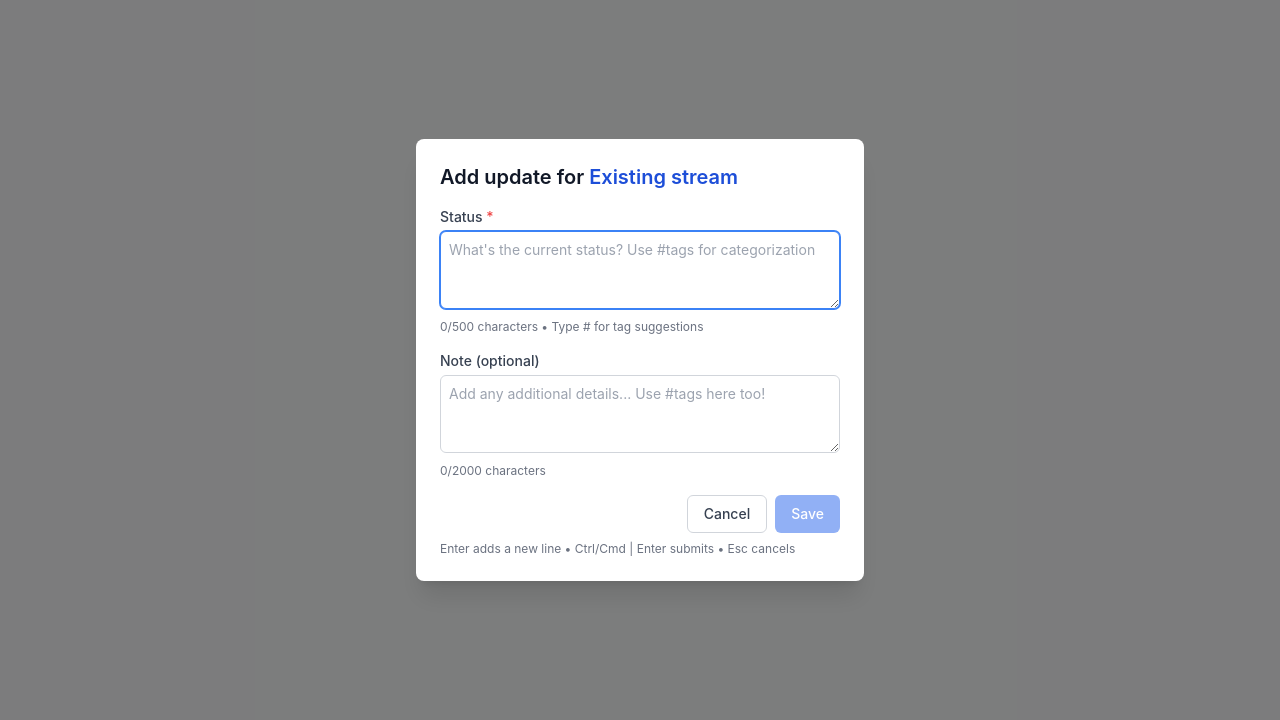
Scenario: dialog keyboard submission hints › uses the same Escape discard confirmation for creating status updates
The image size is (1280, 720).
Type "Draft update" into the text box labelled "Status *".
click(640, 270); type("Draft update")  # box [440,231,840,309]
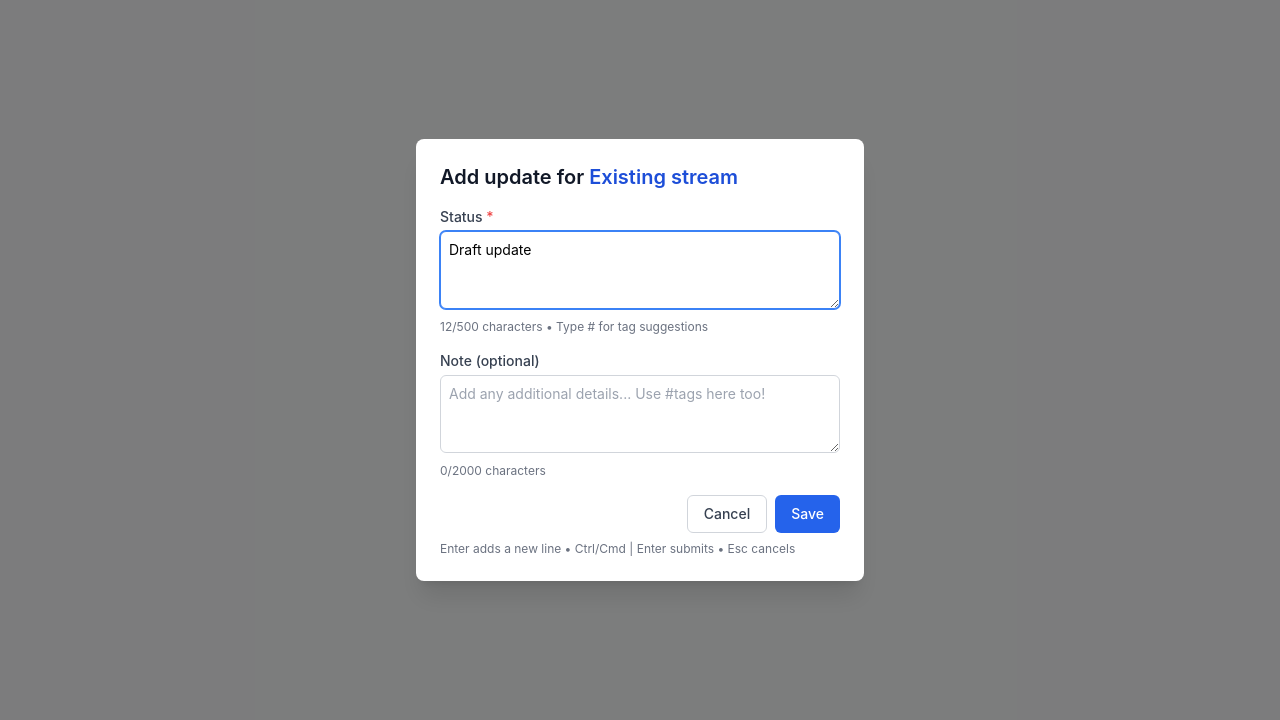
Press Escape in the text box labelled "Status *", box [440,231,840,309]
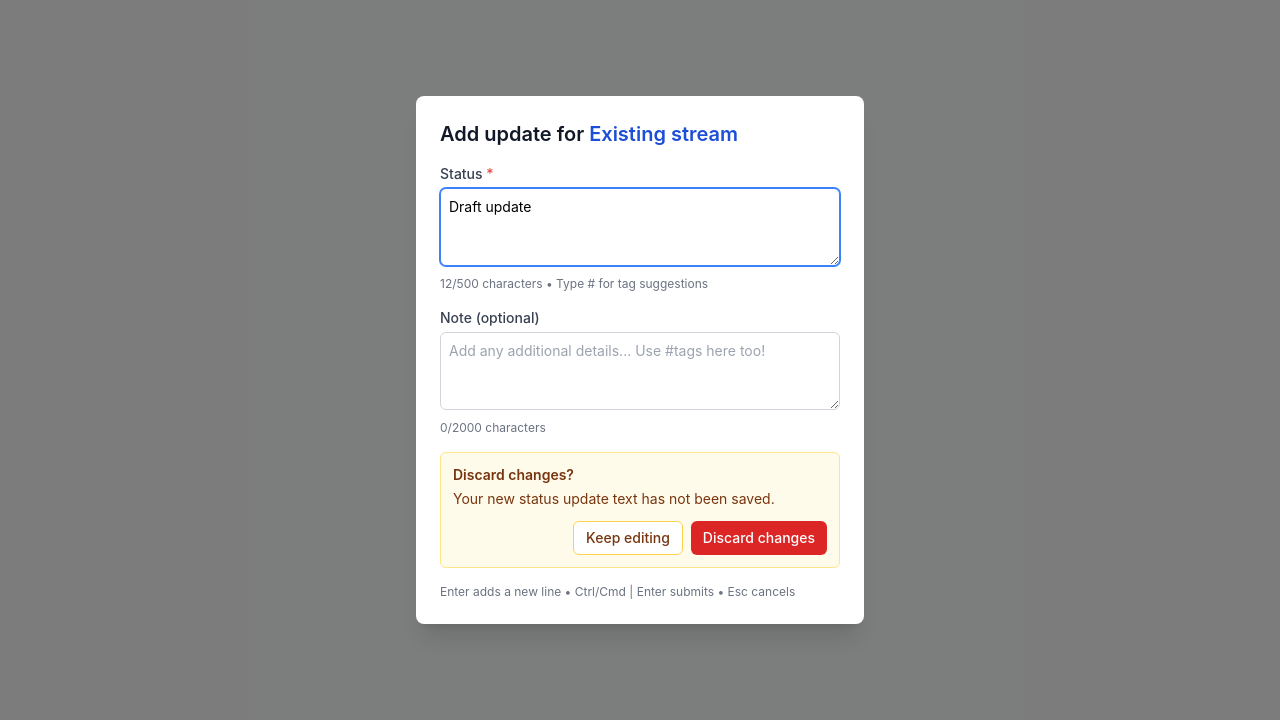
Check: the text "Discard changes?" is shown, box [453,466,574,483]
Click the button "Keep editing".
click(628, 538)  # box [573,521,683,555]
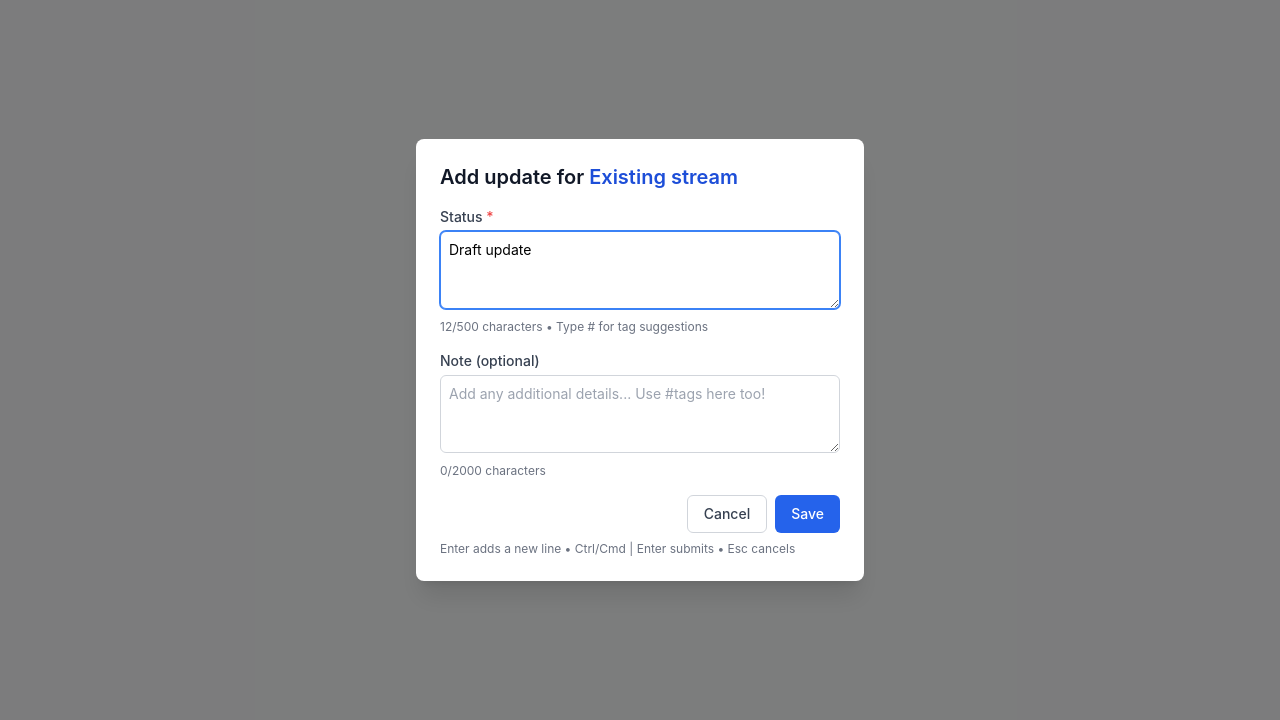
Check: the button "Save" is shown, box [775,495,840,533]
Check: the text "Discard changes?" is gone
Check: the button "Cancel" is shown, box [687,495,767,533]
